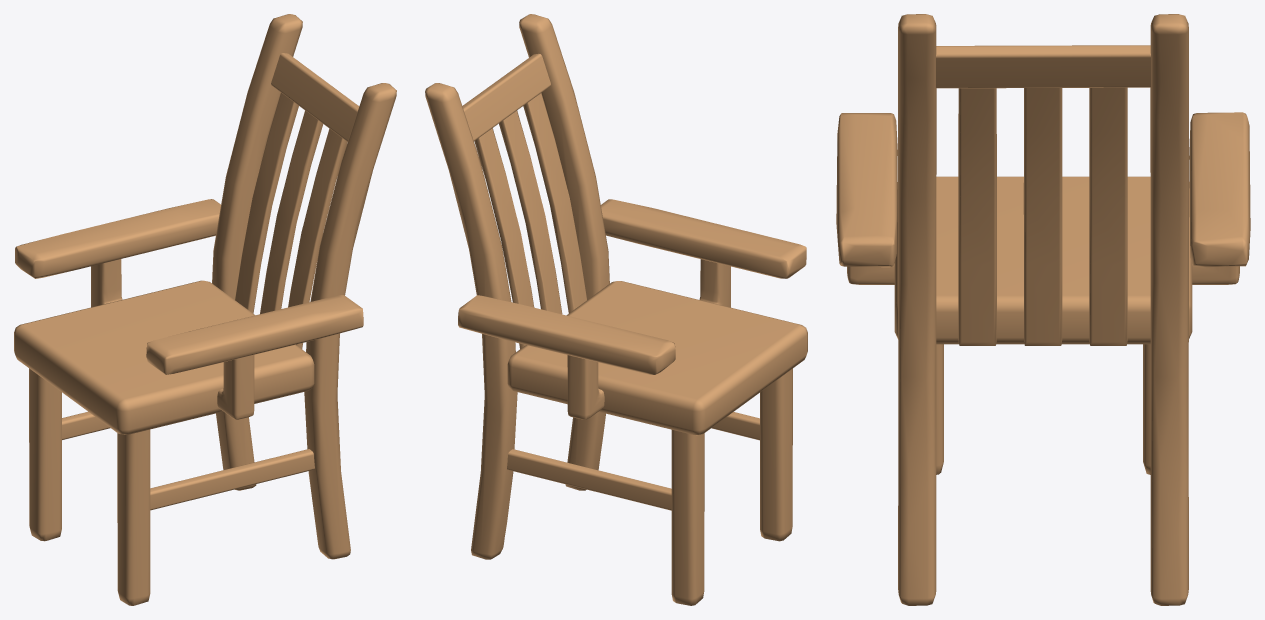
Rendered from chair_08_white.fbx.
3 renders of one model, left to right at view 1: azimuth 30°, elevation 25°; view 2: azimuth 150°, elevation 25°; view 3: azimuth 270°, elevation 25°, orthographic. The views are drawn at different scales.
Parts seen in each view (by area): view 1: chair_08_white; view 2: chair_08_white; view 3: chair_08_white.
Part boxes in pixels (left/top/right/bottom): chair_08_white: left=14, top=14, right=396, bottom=605; chair_08_white: left=425, top=14, right=807, bottom=605; chair_08_white: left=836, top=14, right=1250, bottom=605.
Size of the model in its own units: 67.91 by 106 by 64.81.
1 material, 1 textured.
